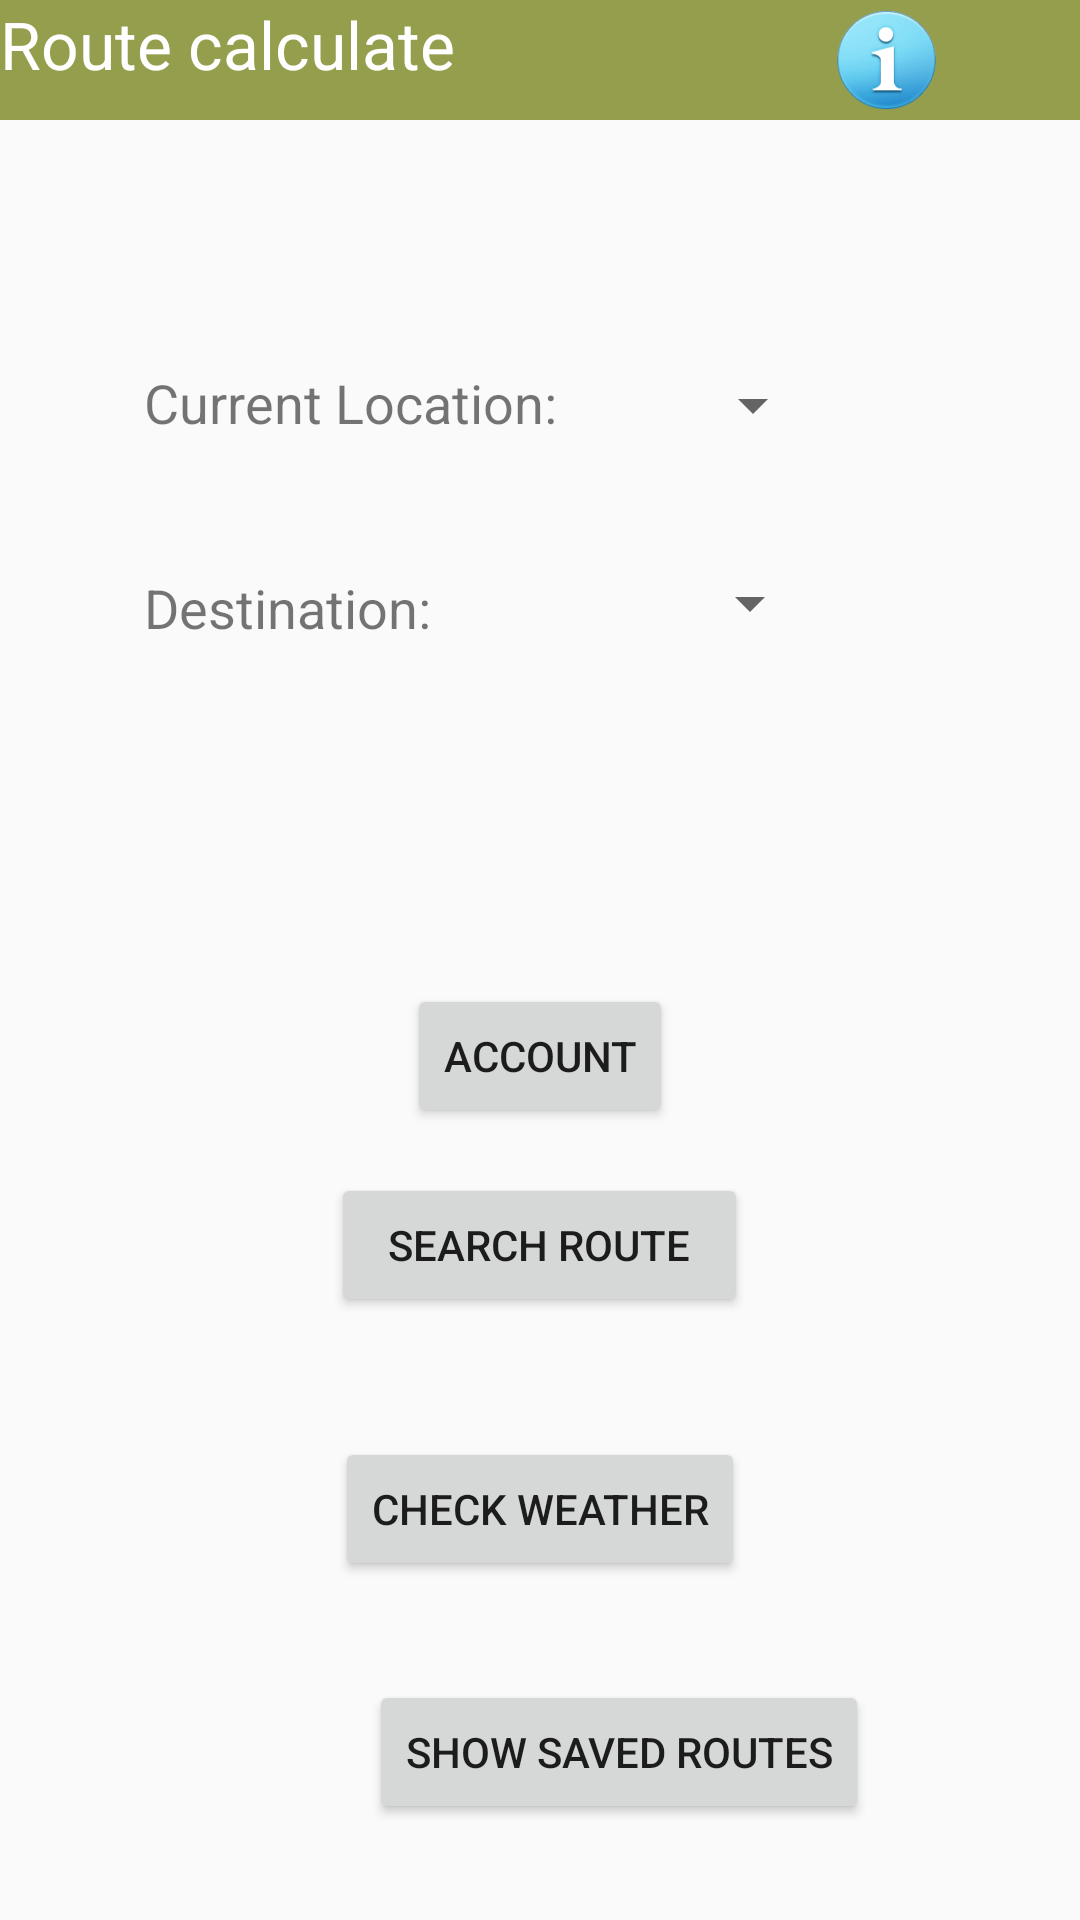

Point at icon controls on the screen. Image size 1080px x 1920px, points as (x=x, y=y).
info: (x=886, y=60)
